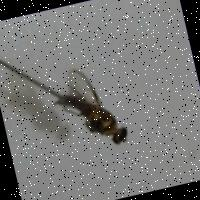Oriental-fruit-fly: (35, 53, 142, 166)
